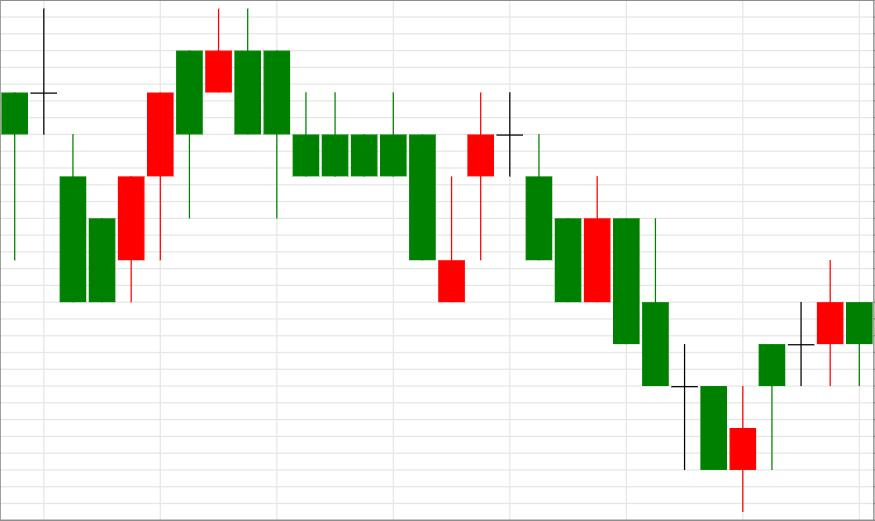inverse_hammer_rise: (235, 9, 465, 303)
